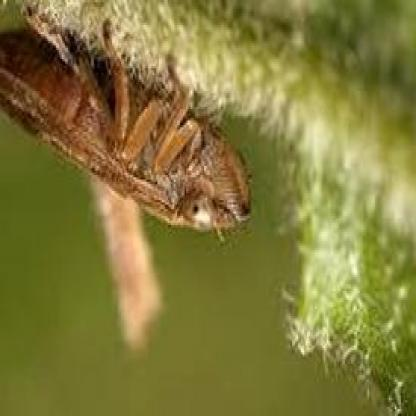brown-planthopper: (0, 26, 255, 232)
